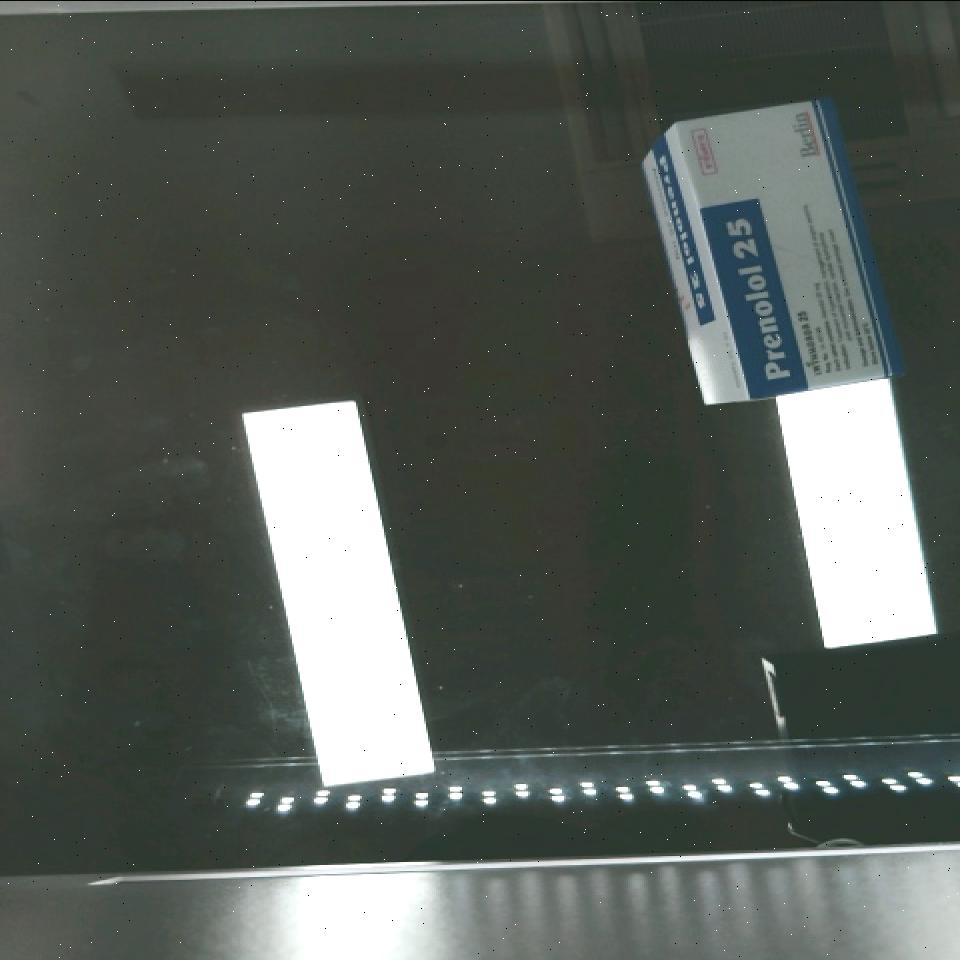medicine_box: (663, 85, 902, 419)
medicine_label_obb: (695, 194, 813, 402)
